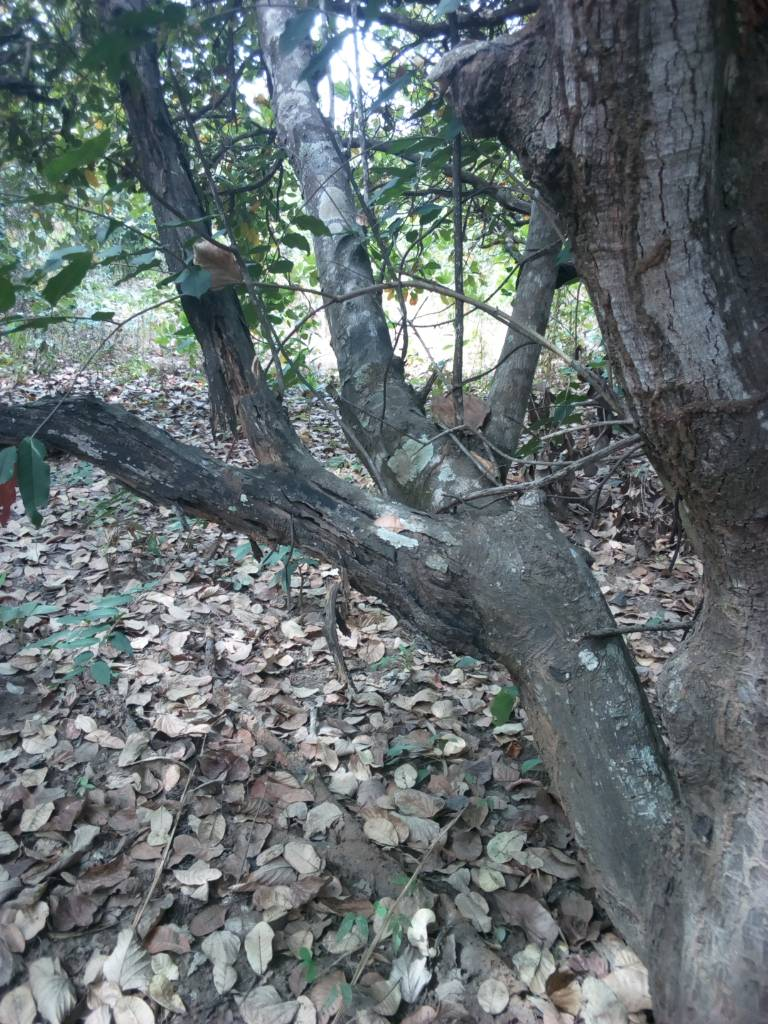Termites: (4, 385, 471, 653), (705, 635, 768, 1014), (640, 385, 768, 482)
